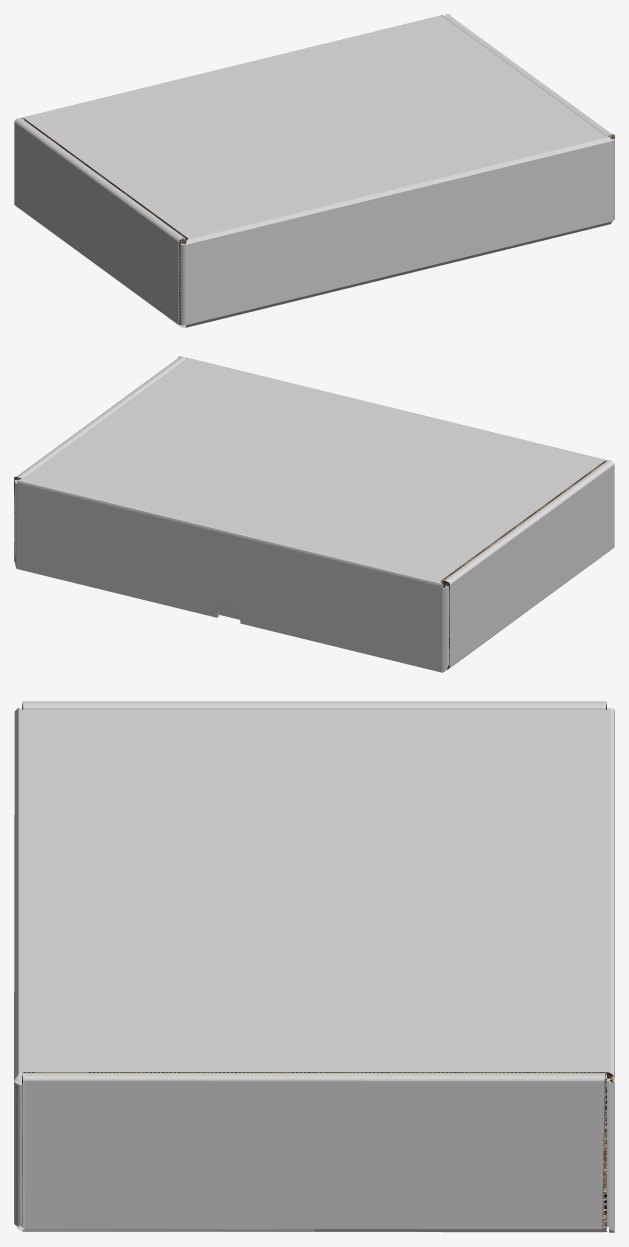
The model's file is cardboard-premium.gltf.
The picture shows the model from 3 angles, top to bottom: view 1: azimuth 30°, elevation 25°; view 2: azimuth 150°, elevation 25°; view 3: azimuth 270°, elevation 25°; orthographic projection. The views are drawn at different scales.
Visible parts, largest first — view 1: Cube; view 2: Cube; view 3: Cube.
Part boxes in pixels (<box>): Cube: <box>14,14,614,327</box>; Cube: <box>14,356,614,672</box>; Cube: <box>14,701,614,1232</box>.
Bounding box in the file's own units: 3.06 × 0.6121 × 2.06.
2 materials, 1 textured.
